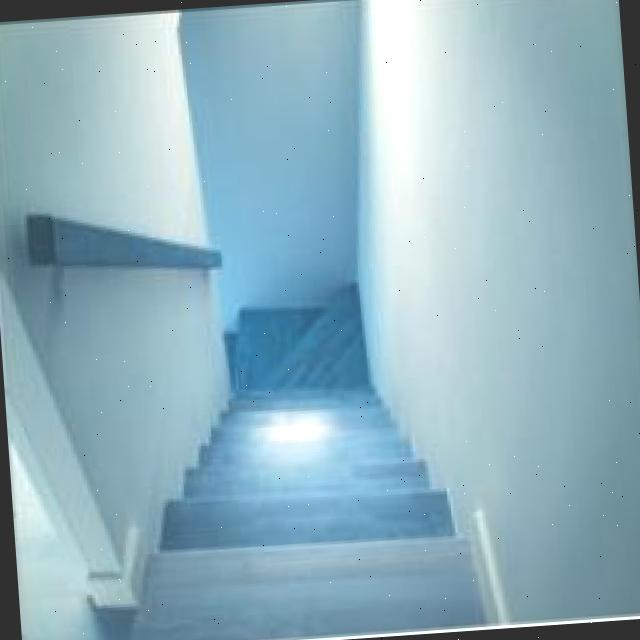stairs: (143, 358, 508, 640)
